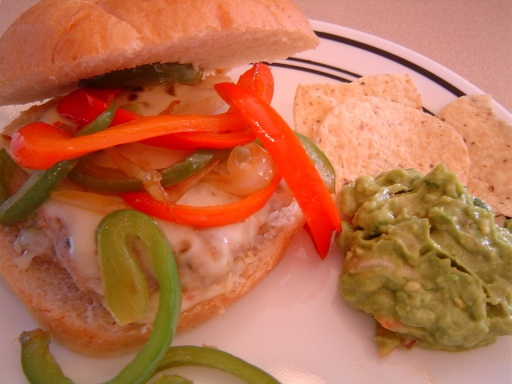background: (0, 0, 410, 230)
